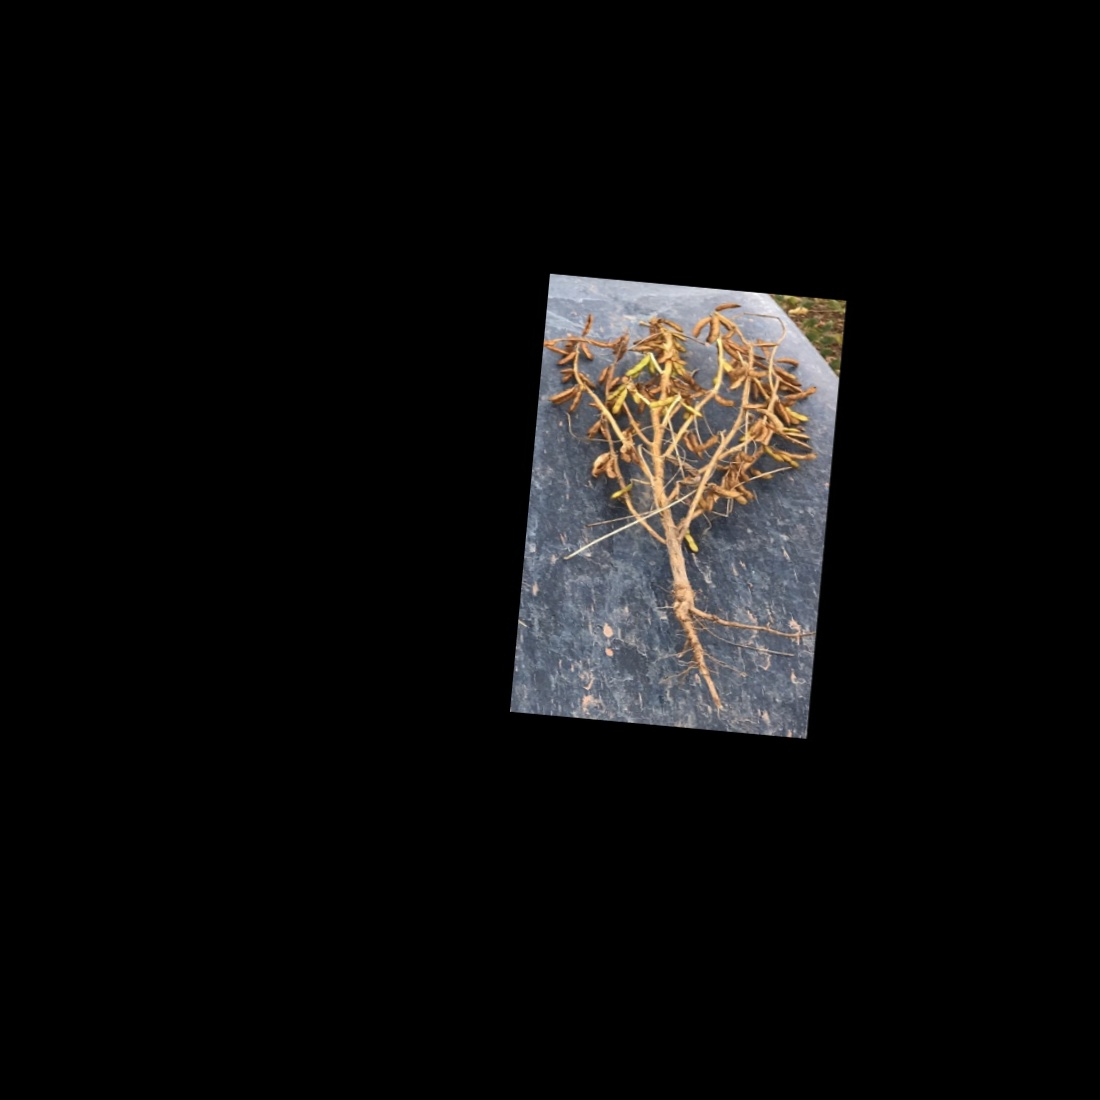pod: (623, 349, 652, 379), (609, 384, 634, 418), (782, 382, 822, 402), (704, 484, 745, 501), (690, 313, 712, 341), (712, 298, 744, 316), (759, 444, 786, 465), (566, 385, 584, 415), (576, 340, 599, 364), (707, 394, 738, 409), (658, 318, 687, 333), (772, 355, 803, 369), (554, 349, 576, 368)
soy: (519, 282, 832, 704)
